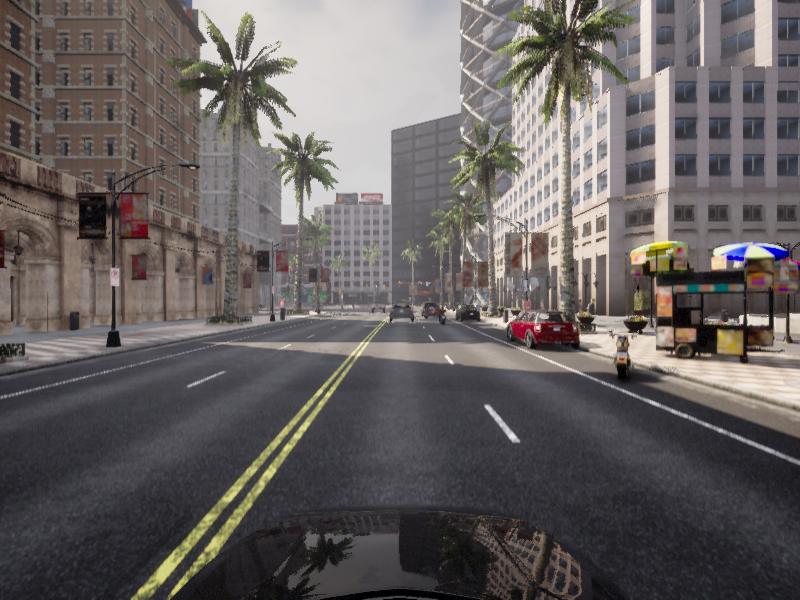vehicle: (388, 301, 415, 321), (422, 304, 443, 319), (436, 305, 448, 326)
